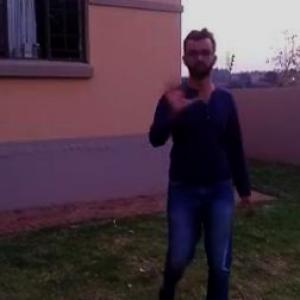follow_hand: (156, 68, 200, 113)
